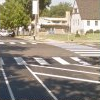crosswalk: (0, 56, 90, 66), (54, 44, 100, 56), (0, 41, 36, 45)
